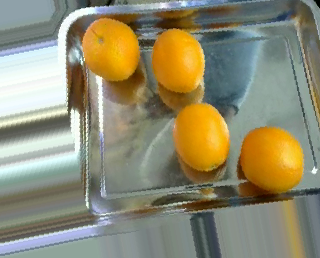Orange: (239, 126, 304, 192), (173, 102, 228, 171), (82, 16, 140, 81), (152, 27, 204, 92)
